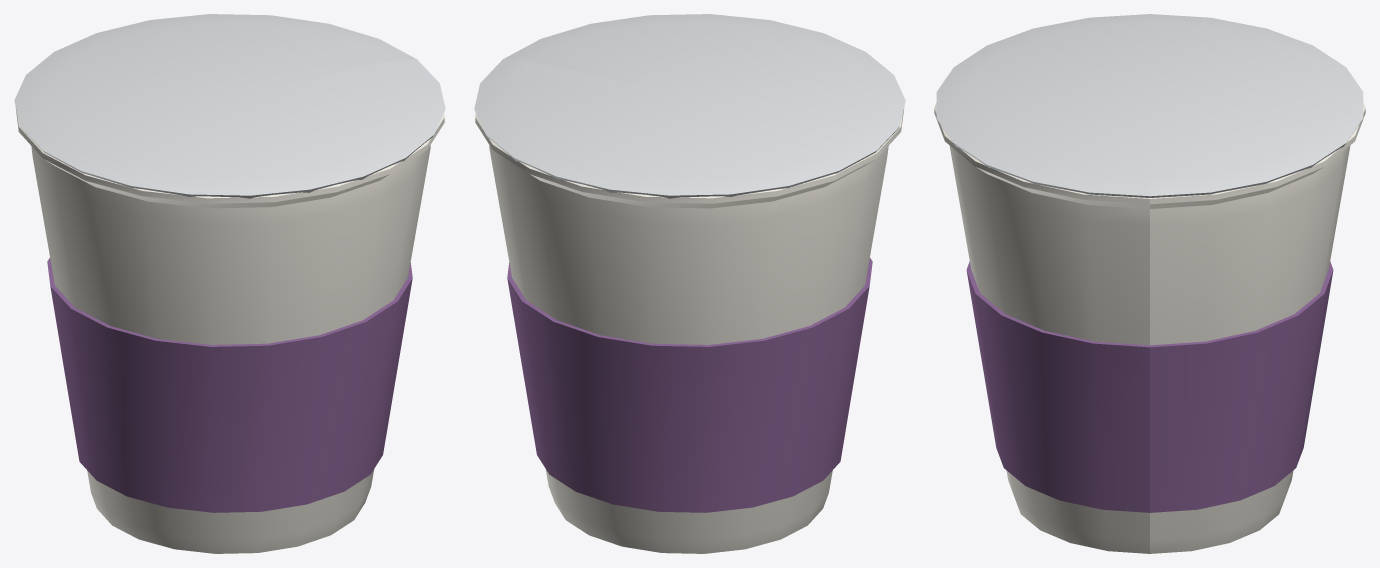
File: fresh-produce-and-groceries-yoghurt-pot-70af3ae5__24393.glb
3 renders of one model, left to right at view 1: azimuth 30°, elevation 25°; view 2: azimuth 150°, elevation 25°; view 3: azimuth 270°, elevation 25°, orthographic.
Visible parts, largest first — view 1: yoghurt-pot; view 2: yoghurt-pot; view 3: yoghurt-pot.
Boxes of the visible parts, left/top/right/bottom form: yoghurt-pot: left=14, top=14, right=445, bottom=553; yoghurt-pot: left=474, top=14, right=905, bottom=553; yoghurt-pot: left=934, top=14, right=1365, bottom=553.
Size of the model in its own units: 0.0724 by 0.0738 by 0.0724.
